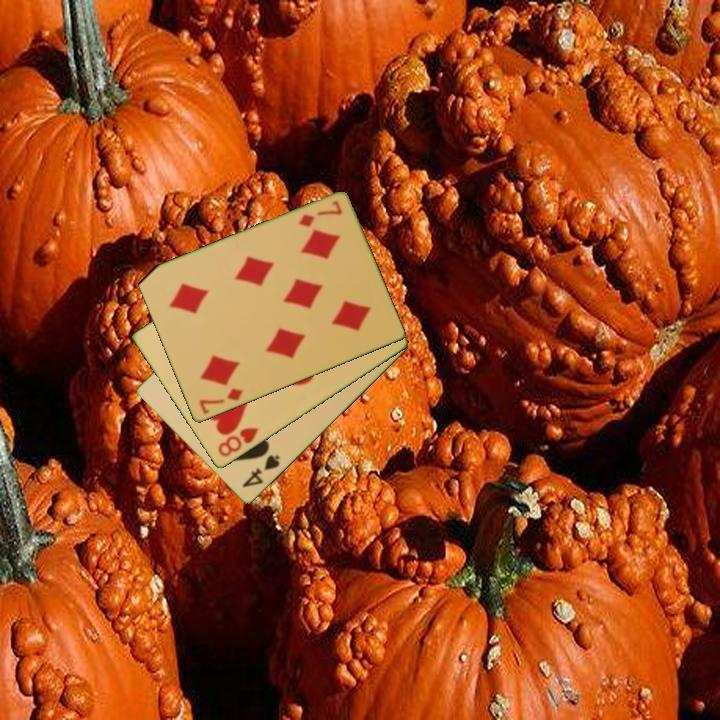4s: (238, 452, 283, 491)
7d: (195, 385, 246, 418), (294, 197, 345, 230)
8h: (214, 424, 262, 460)
